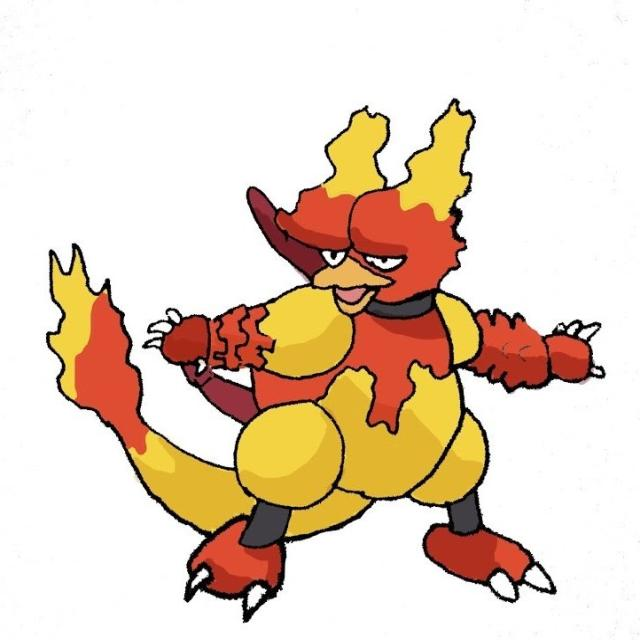Magmar: (142, 179, 538, 608)
